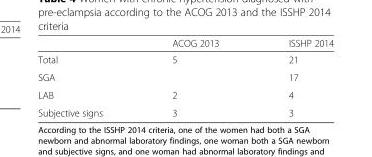table: (37, 36, 333, 117)
table column: (136, 36, 253, 117), (37, 36, 136, 117), (253, 36, 333, 117)
table column header: (37, 36, 333, 50)
table row: (37, 50, 333, 68), (37, 85, 333, 103), (37, 68, 333, 85), (37, 36, 333, 50), (37, 103, 333, 117)
